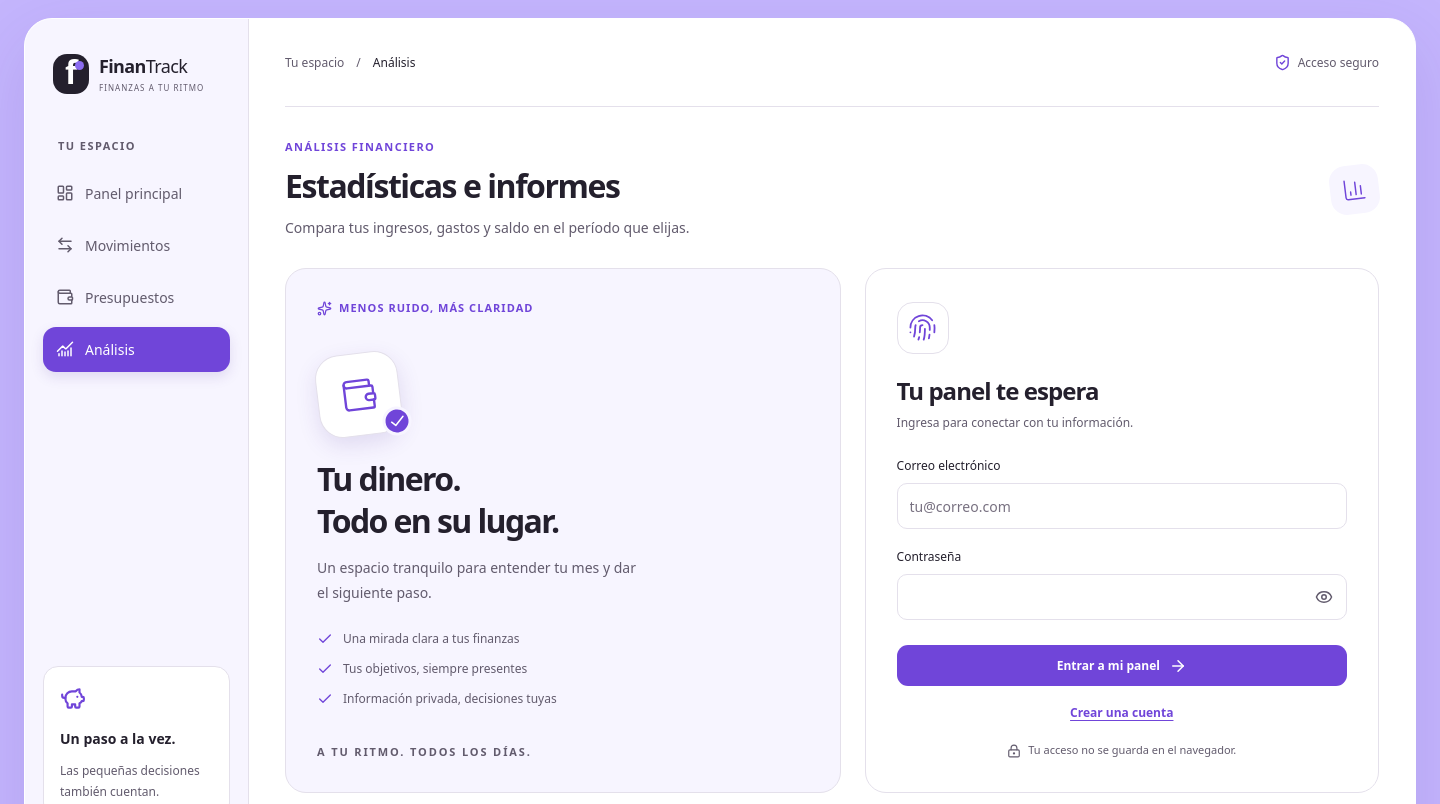
Test case: distinguishes a valid empty report from loading or a transport error
The image size is (1440, 804).
Type "reports@fintrack.test" into the field labelled "Correo electrónico" at x=1122, y=506, box [897,484,1347,530]
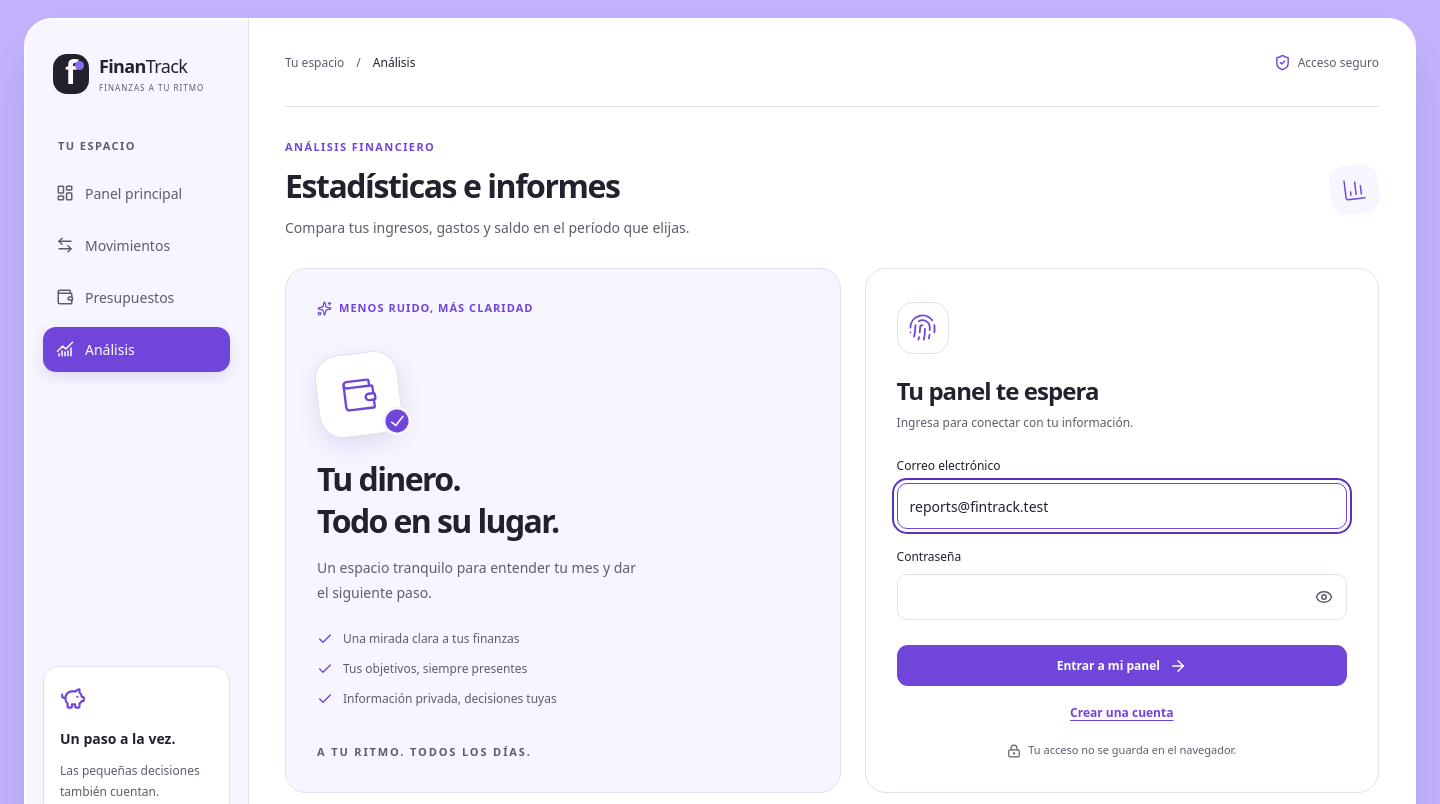
Type "synthetic-password" into the password field labelled "Contraseña" at x=1122, y=598, box [897,574,1347,620]
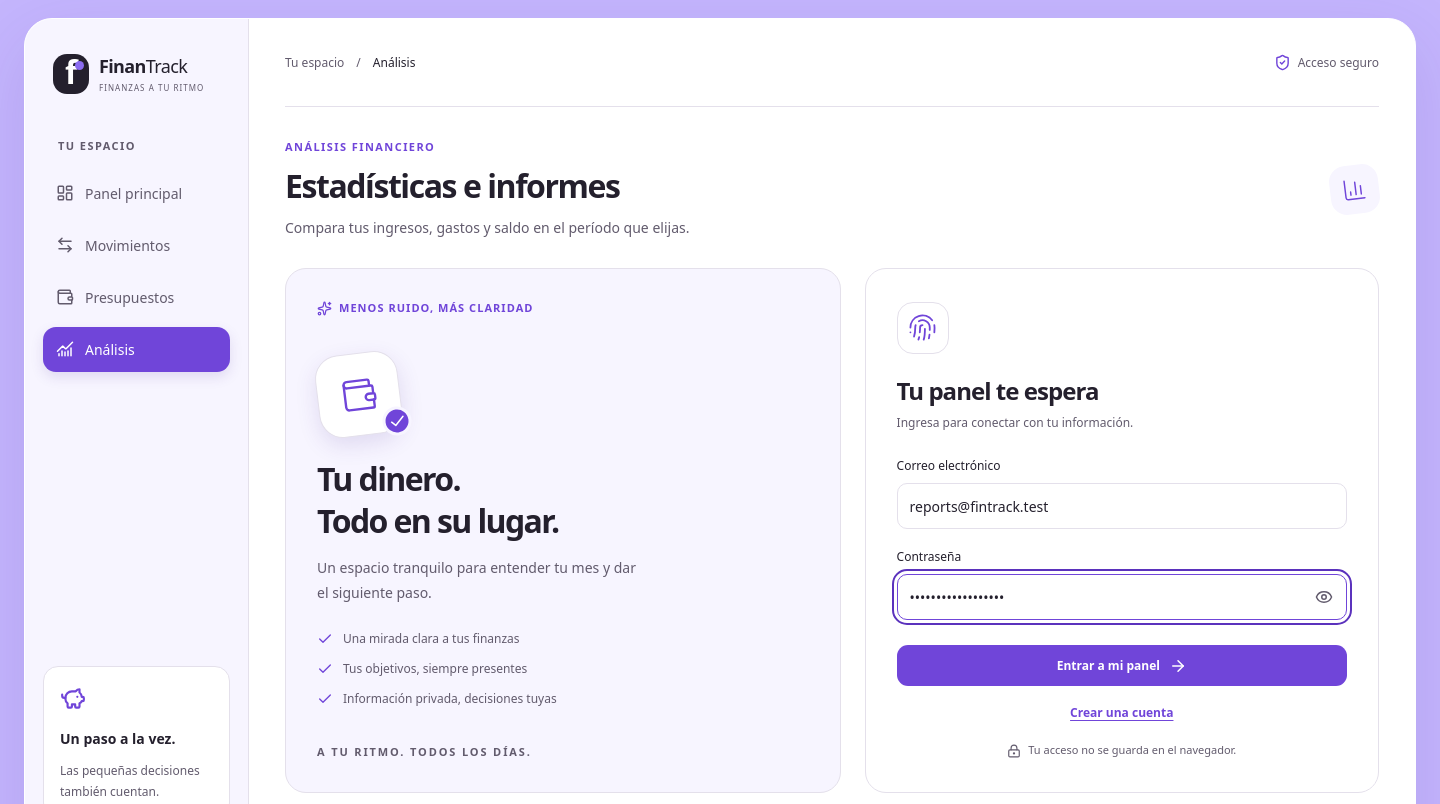
Click the button "Entrar a mi panel" at x=1122, y=666, box [897,646,1347,686]
(page scrolled)
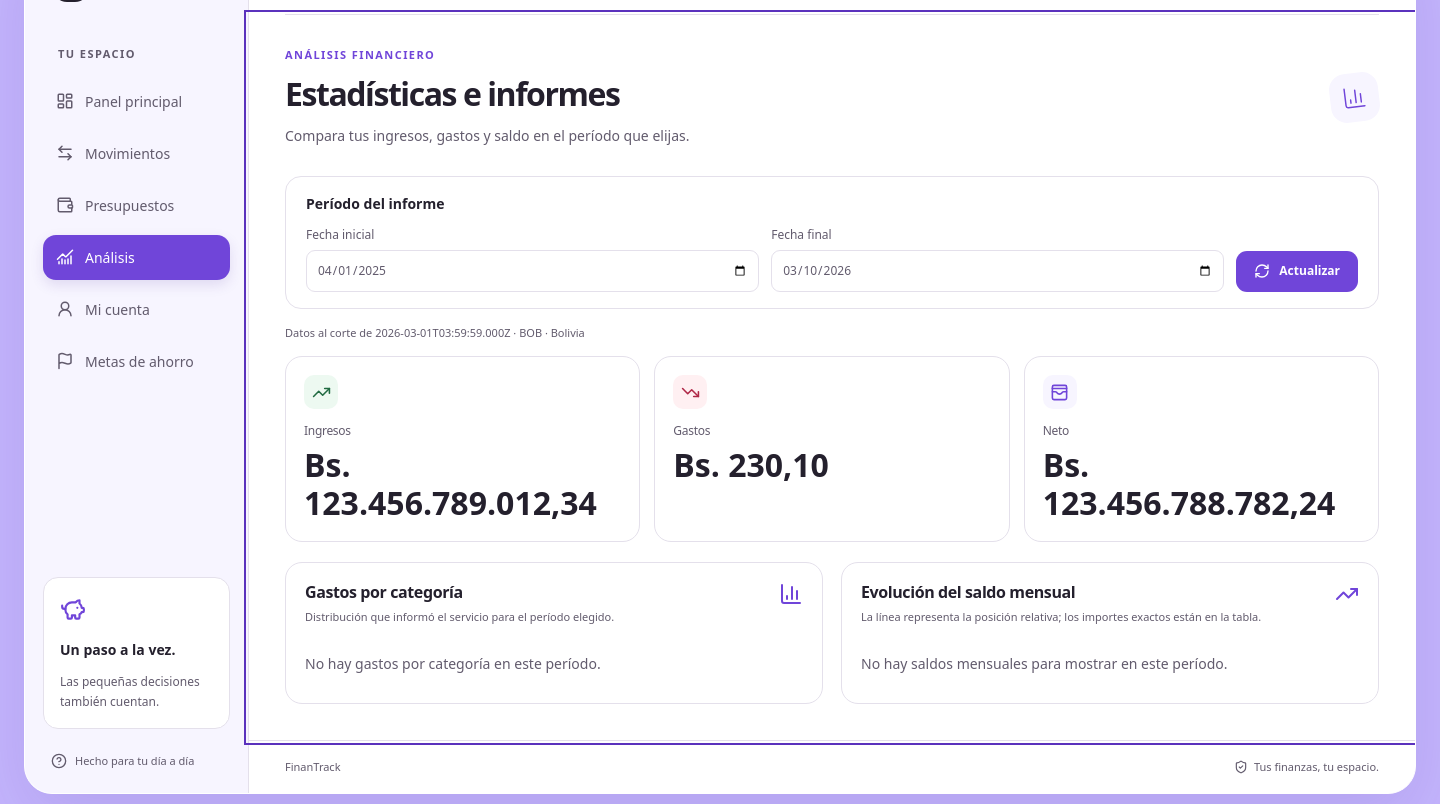
Check: the text "No hay gastos por categoría en este período." is shown, box [305,654,601,673]
Check: the text "No hay saldos mensuales para mostrar en este período." is shown, box [861,654,1228,673]
